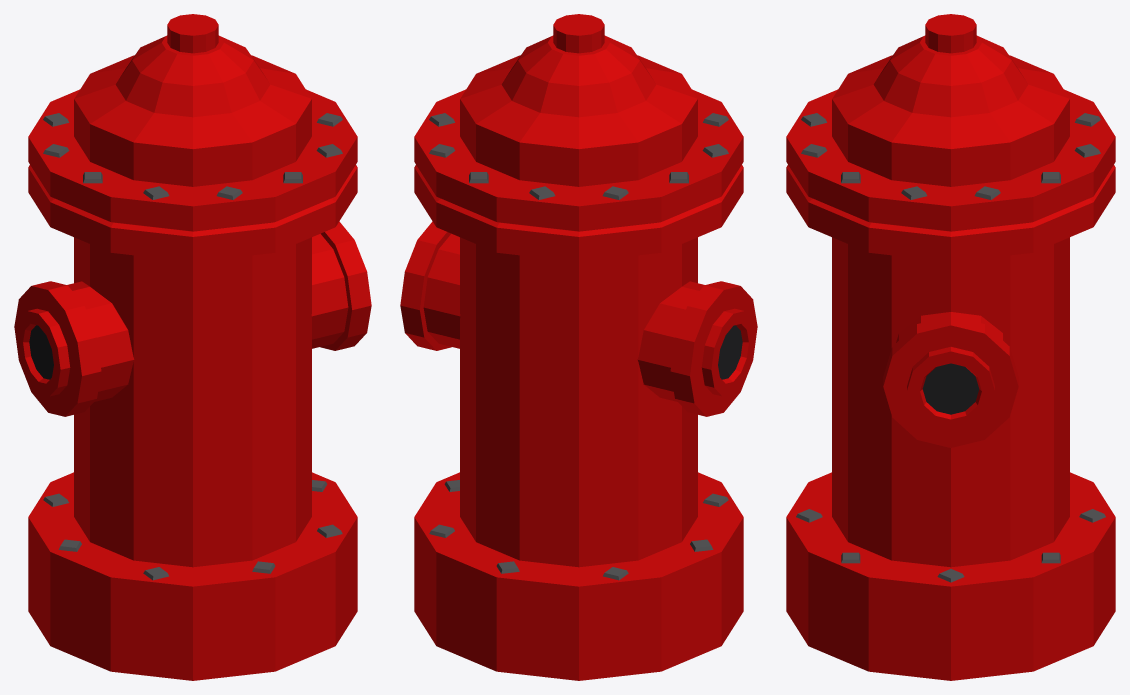
Rendered from SM_Hydrant.fbx.
3 views of the same model, side by side, from view 1: azimuth 30°, elevation 25°; view 2: azimuth 150°, elevation 25°; view 3: azimuth 270°, elevation 25° (orthographic).
Parts seen in each view (by area): view 1: SM_Hydrant_LOD0; view 2: SM_Hydrant_LOD0; view 3: SM_Hydrant_LOD0.
Boxes of the visible parts, x1,y1,x2,y2 form: SM_Hydrant_LOD0: (14, 14, 371, 680); SM_Hydrant_LOD0: (400, 14, 757, 680); SM_Hydrant_LOD0: (786, 14, 1115, 680).
Size of the model in its own units: 42.02 by 38.8 by 76.23.
1 material, 1 textured.
